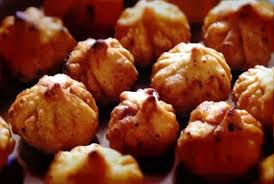modak: (5, 71, 123, 166), (177, 88, 261, 182), (154, 34, 239, 115), (107, 88, 181, 160), (113, 1, 199, 56), (71, 33, 142, 91)
